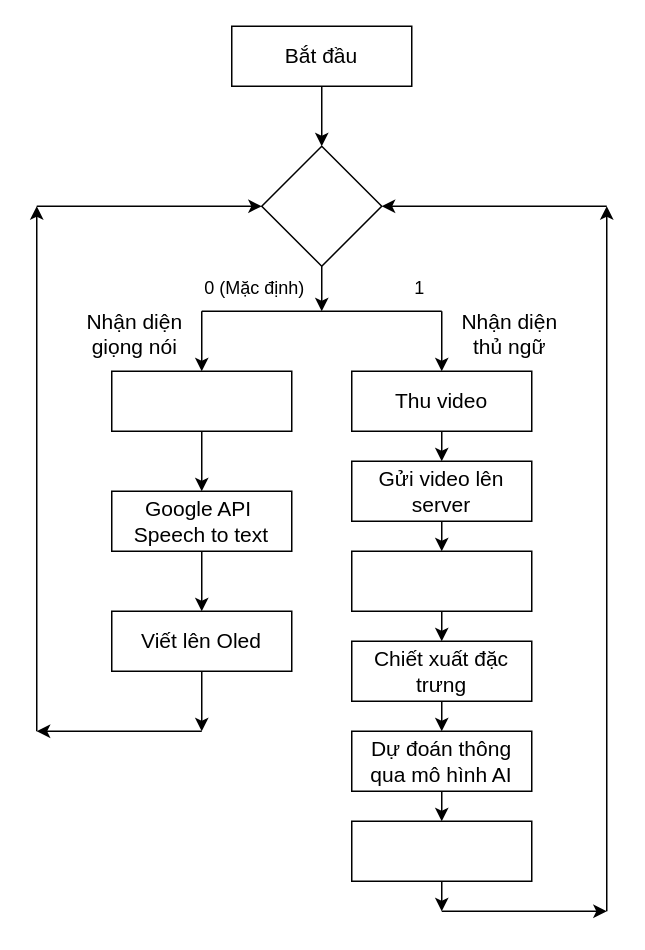
The diagram is 645 pixels wide and 950 high, and some of its shapes have lost their labels. Here are the shapes that lost their labels. From the top down, the centre of each, then its label:
(321,205): Nhấn nút
(201,400): Thu âm
(441,580): Vẽ khung xương
(441,850): Phát ra loa
